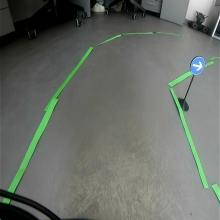right: (190, 56, 206, 75)
